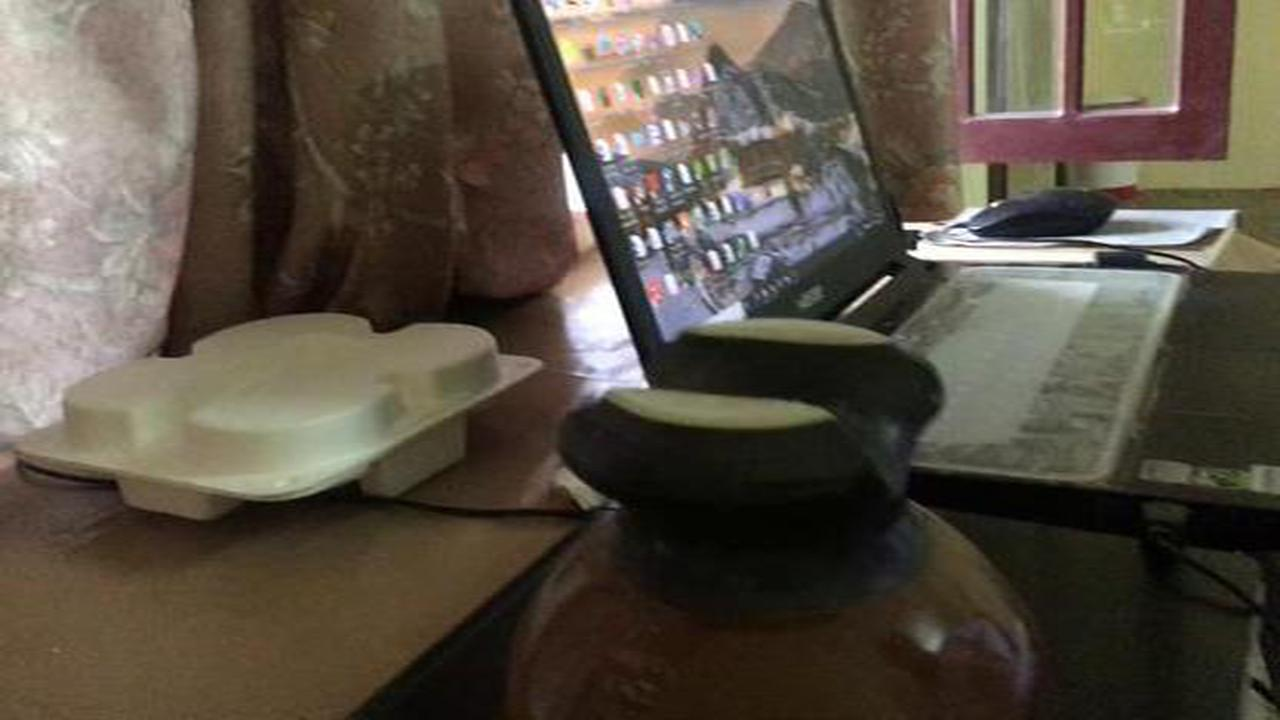insulator_pin: (474, 298, 1065, 720)
